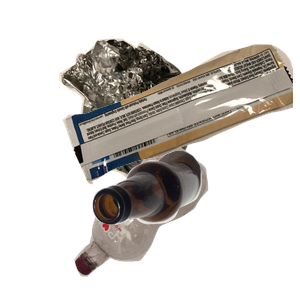glass: (90, 148, 300, 300)
metal: (57, 36, 241, 216)
plastic: (72, 142, 273, 300)
trash: (60, 42, 300, 219)
